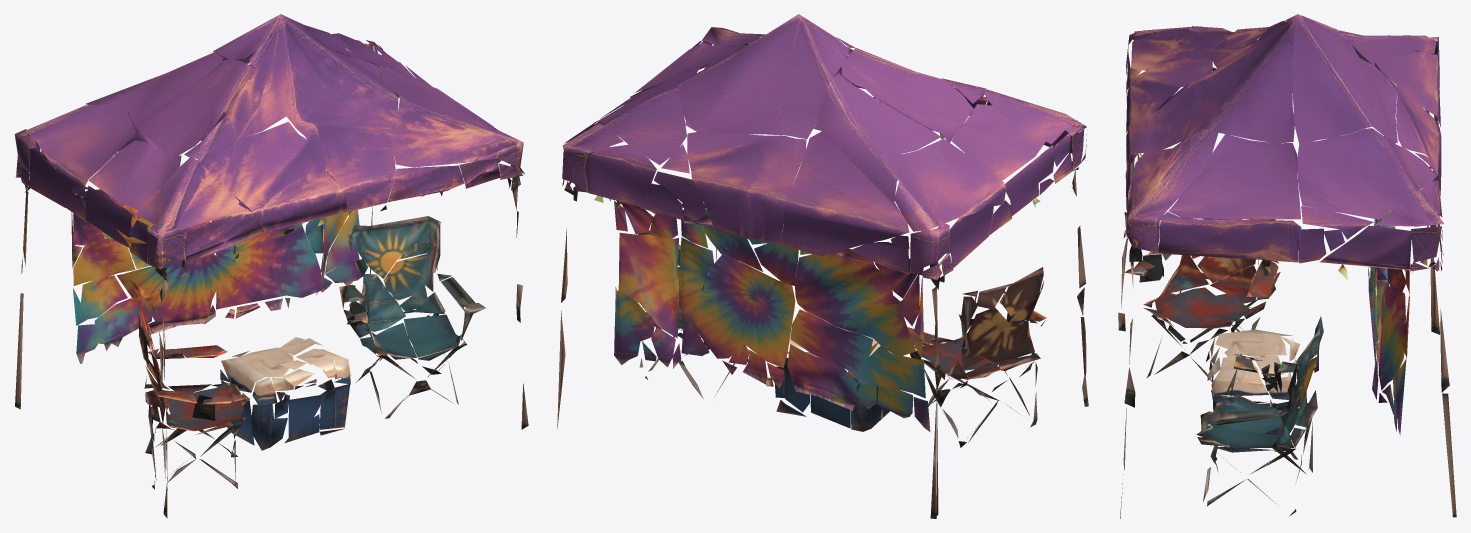
The model's file is canopy.glb.
3 views of the same model, side by side, from view 1: azimuth 30°, elevation 25°; view 2: azimuth 150°, elevation 25°; view 3: azimuth 270°, elevation 25° (orthographic). The views are drawn at different scales.
Parts seen in each view (by area): view 1: tripo_node_4ff90ea5-08ec-4e3c-9d13-377123419d1b; view 2: tripo_node_4ff90ea5-08ec-4e3c-9d13-377123419d1b; view 3: tripo_node_4ff90ea5-08ec-4e3c-9d13-377123419d1b.
Boxes of the visible parts, <box> form: tripo_node_4ff90ea5-08ec-4e3c-9d13-377123419d1b: <box>14,14,528,518</box>; tripo_node_4ff90ea5-08ec-4e3c-9d13-377123419d1b: <box>557,14,1088,518</box>; tripo_node_4ff90ea5-08ec-4e3c-9d13-377123419d1b: <box>1118,14,1456,518</box>.
Size of the model in its own units: 2.04 by 2.1 by 1.52.
1 material, 1 textured.
